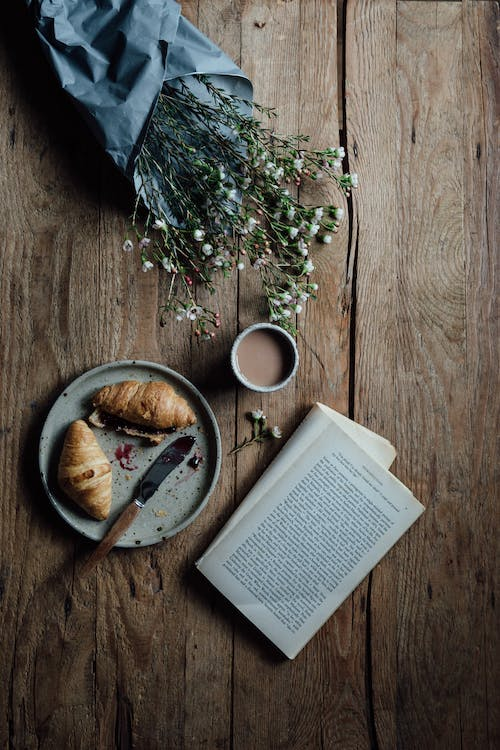knife: (74, 432, 198, 581)
